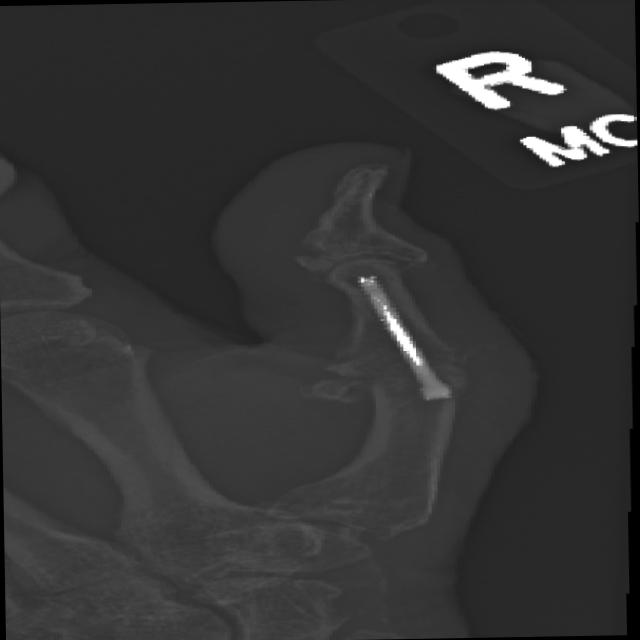fingers positive: (287, 330, 513, 422), (259, 215, 406, 289)
